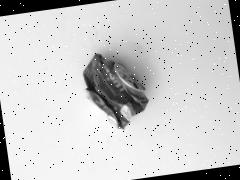metal: (52, 26, 194, 172)
